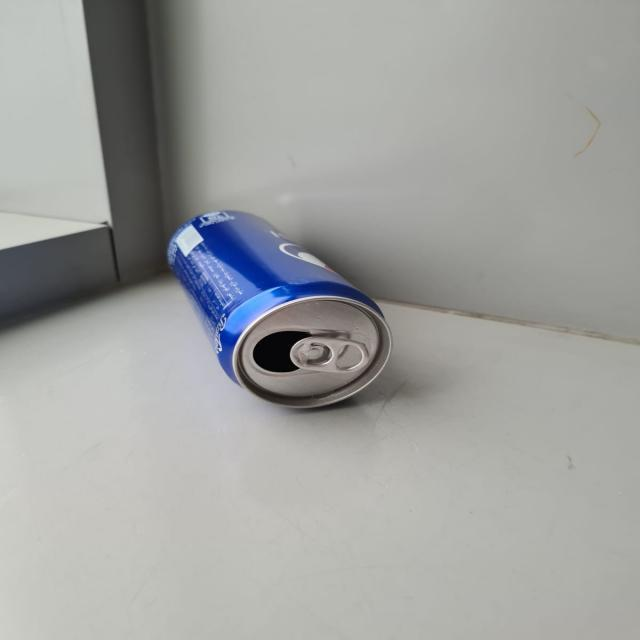can: (152, 207, 398, 420)
